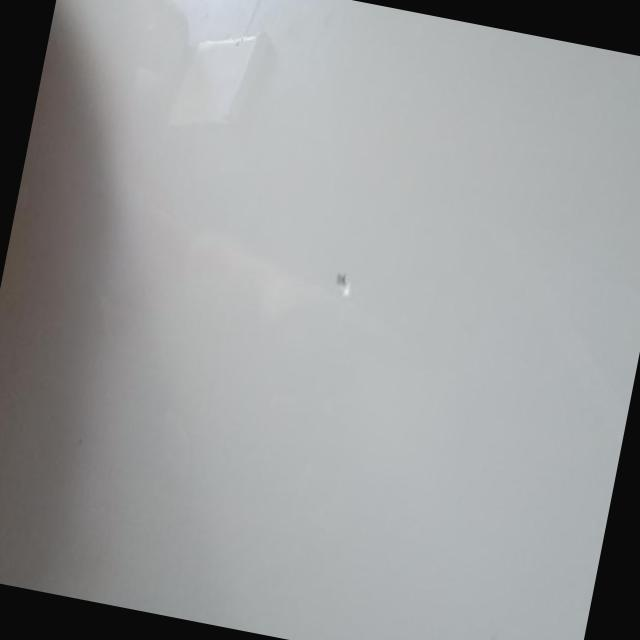dent: (471, 618, 518, 640), (326, 267, 355, 299)
